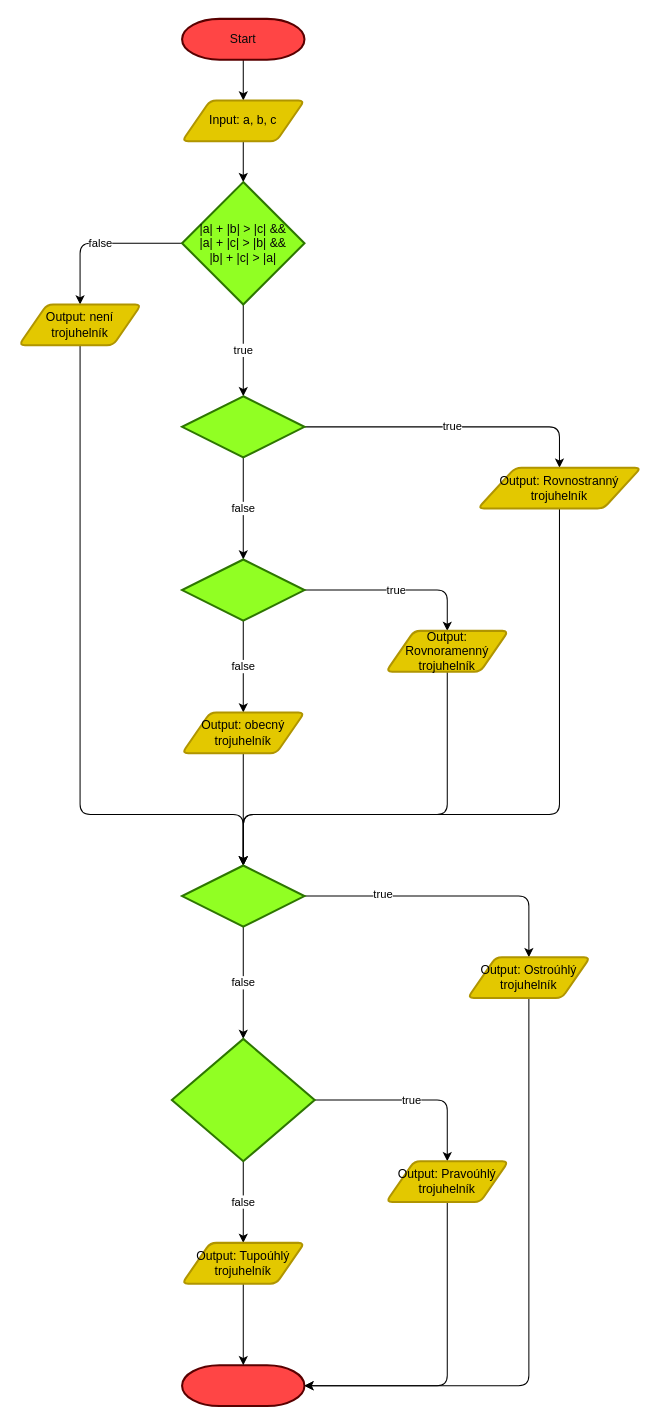
Image size: 659x1424. Some labels were removed from this diagram. Each missing label, with the centre of its shape:
a == b && b == c: the point at 243,426
a == b && c != a: the point at 243,589
a^2 + b^2 == c^2 || a^2 + c^2 == b^2 || b^2 + c^2 == a^2: the point at 242,1099
c^2 < a^2 + b^2: the point at 243,895
End: the point at 243,1385
